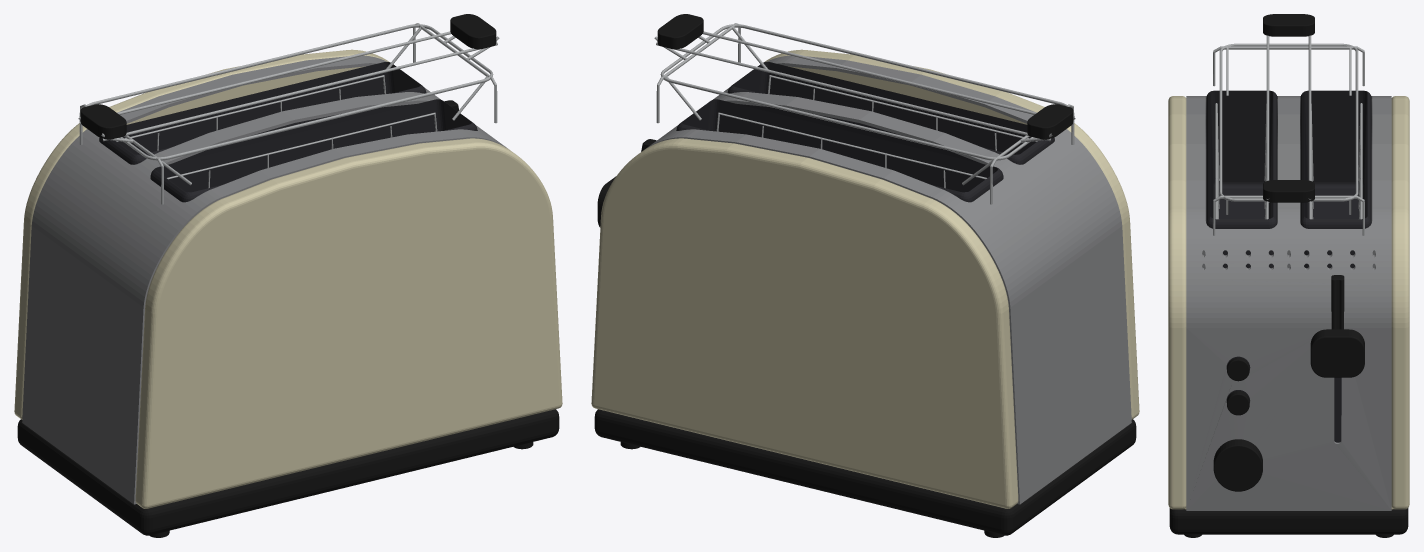
3 views of the same model, side by side, from view 1: azimuth 30°, elevation 25°; view 2: azimuth 150°, elevation 25°; view 3: azimuth 270°, elevation 25° (orthographic). The views are drawn at different scales.
Visible parts, largest first — view 1: visual_part_000_0_4, visual_part_000_0_0, visual_part_000_0_2, visual_part_000_0_3, visual_part_000_0_1; view 2: visual_part_000_0_4, visual_part_000_0_0, visual_part_000_0_2, visual_part_000_0_3, visual_part_000_0_1; view 3: visual_part_000_0_0, visual_part_000_0_2, visual_part_000_0_4, visual_part_000_0_3, visual_part_000_0_1, visual_part_004_0_0, visual_part_003_0_0, visual_part_002_0_0, visual_part_001_0_0.
Part boxes in pixels (x1=…): visual_part_000_0_4: x1=14, y1=49, x2=562, y2=508; visual_part_000_0_0: x1=22, y1=55, x2=507, y2=504; visual_part_000_0_2: x1=99, y1=62, x2=477, y2=202; visual_part_000_0_3: x1=17, y1=14, x2=559, y2=537; visual_part_000_0_1: x1=78, y1=23, x2=499, y2=204; visual_part_000_0_4: x1=591, y1=49, x2=1139, y2=508; visual_part_000_0_0: x1=646, y1=55, x2=1131, y2=504; visual_part_000_0_2: x1=676, y1=62, x2=1054, y2=202; visual_part_000_0_3: x1=594, y1=14, x2=1136, y2=537; visual_part_000_0_1: x1=654, y1=23, x2=1075, y2=204; visual_part_000_0_0: x1=1186, y1=96, x2=1391, y2=510; visual_part_000_0_2: x1=1206, y1=90, x2=1371, y2=442; visual_part_000_0_4: x1=1168, y1=96, x2=1409, y2=509; visual_part_000_0_3: x1=1169, y1=14, x2=1408, y2=537; visual_part_000_0_1: x1=1213, y1=35, x2=1364, y2=235; visual_part_004_0_0: x1=1310, y1=329, x2=1364, y2=377; visual_part_003_0_0: x1=1213, y1=439, x2=1262, y2=491; visual_part_002_0_0: x1=1227, y1=391, x2=1249, y2=415; visual_part_001_0_0: x1=1227, y1=357, x2=1249, y2=381.
Size of the model in its own units: 0.77 by 0.64 by 0.4.
